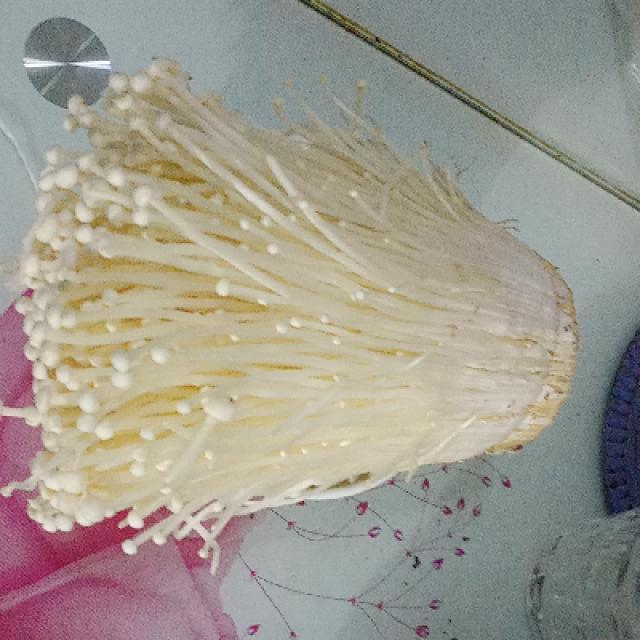Flammulina velutiper: (16, 63, 581, 562)
